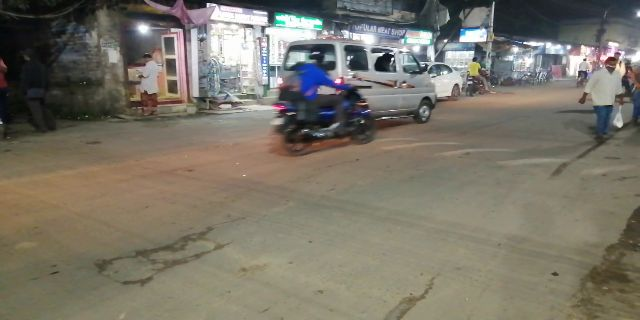Motorbike: (276, 50, 377, 158)
Van: (285, 36, 440, 128)
